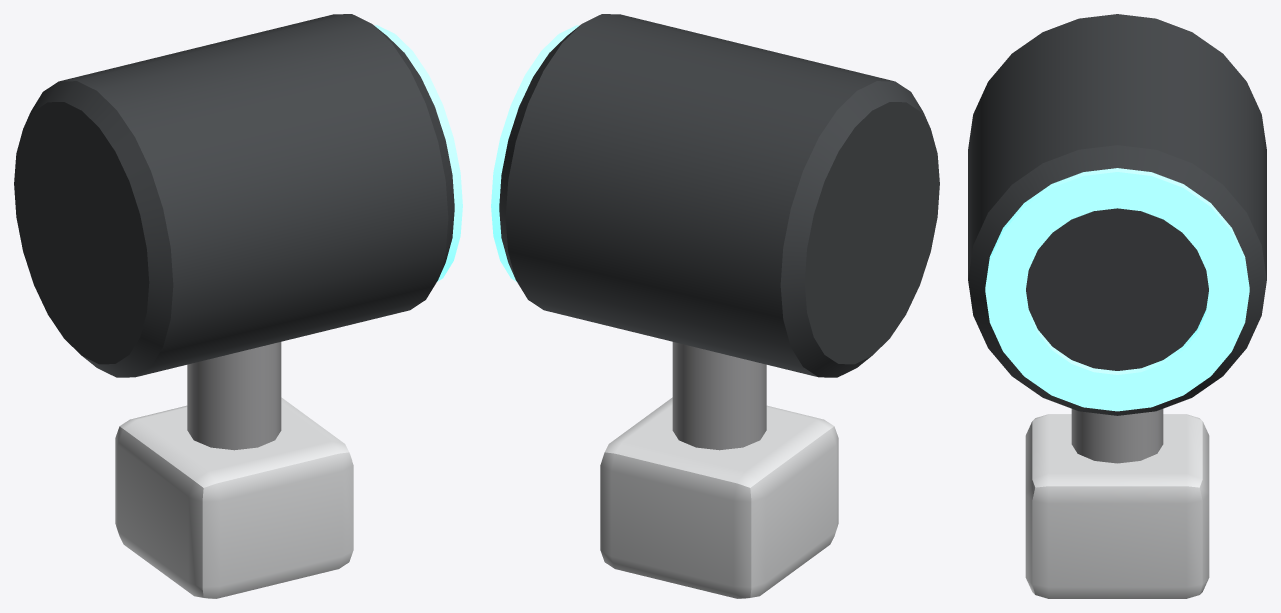
Rendered from heavy_knee.glb.
The picture shows the model from 3 angles, left to right: view 1: azimuth 30°, elevation 25°; view 2: azimuth 150°, elevation 25°; view 3: azimuth 270°, elevation 25°; orthographic projection. The views are drawn at different scales.
Visible parts, largest first — view 1: heavy_knee; view 2: heavy_knee; view 3: heavy_knee.
Part boxes in pixels (x1,y1,x2,y2): heavy_knee: (14, 14, 462, 598); heavy_knee: (491, 14, 939, 598); heavy_knee: (968, 14, 1266, 598).
Size of the model in its own units: 0.308 by 0.48 by 0.26.
